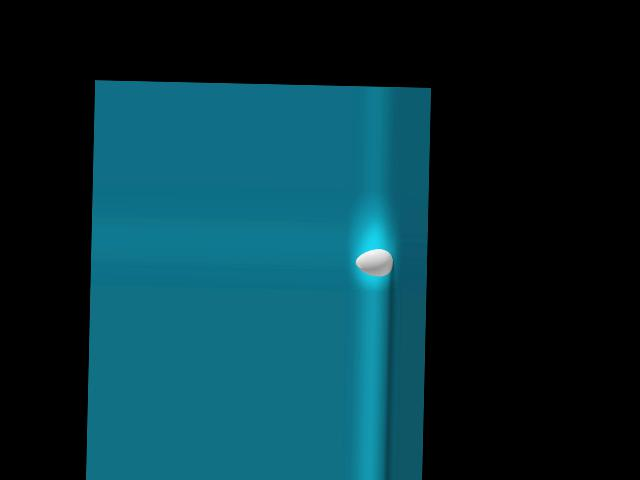egg: (355, 248, 393, 277)
